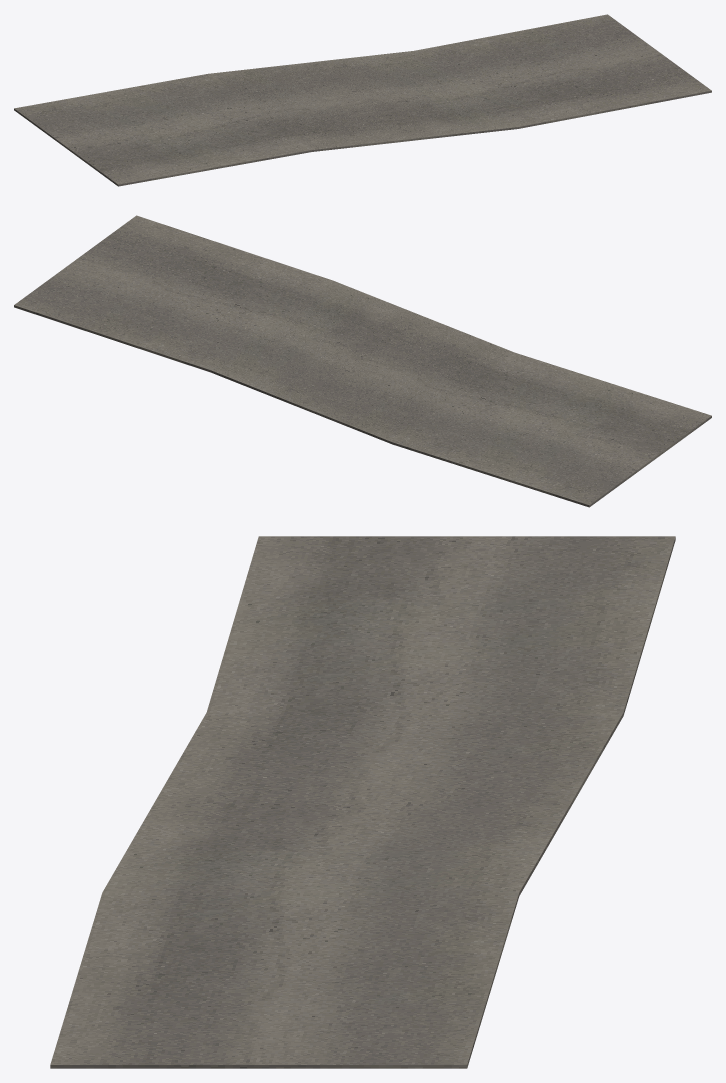
Rendered from road_3_sheer_no_sides.glb.
3 renders of one model, top to bottom at view 1: azimuth 30°, elevation 25°; view 2: azimuth 150°, elevation 25°; view 3: azimuth 270°, elevation 25°, orthographic. The views are drawn at different scales.
Parts seen in each view (by area): view 1: road_3_sheer_no_sides; view 2: road_3_sheer_no_sides; view 3: road_3_sheer_no_sides.
Part boxes in pixels (bbox=[...]): road_3_sheer_no_sides: bbox=[14, 14, 711, 186]; road_3_sheer_no_sides: bbox=[14, 215, 711, 507]; road_3_sheer_no_sides: bbox=[50, 536, 675, 1068].
Bounding box in the file's own units: 48 × 0.32 × 24.
Materials: 1 (1 with a texture image).
